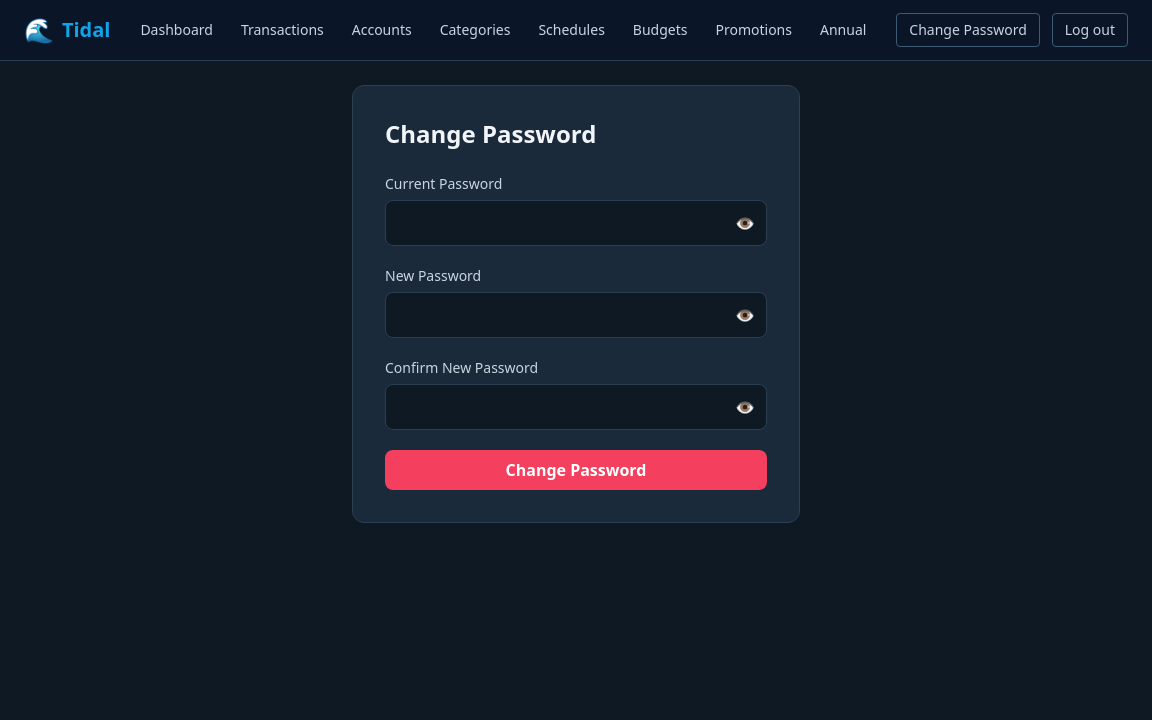
Test case: ChangePasswordPage › shows the API error when the current password is wrong
Type "wrongpass" into the password field labelled "Current Password" at (576,223), box 385,200 -> 767,246
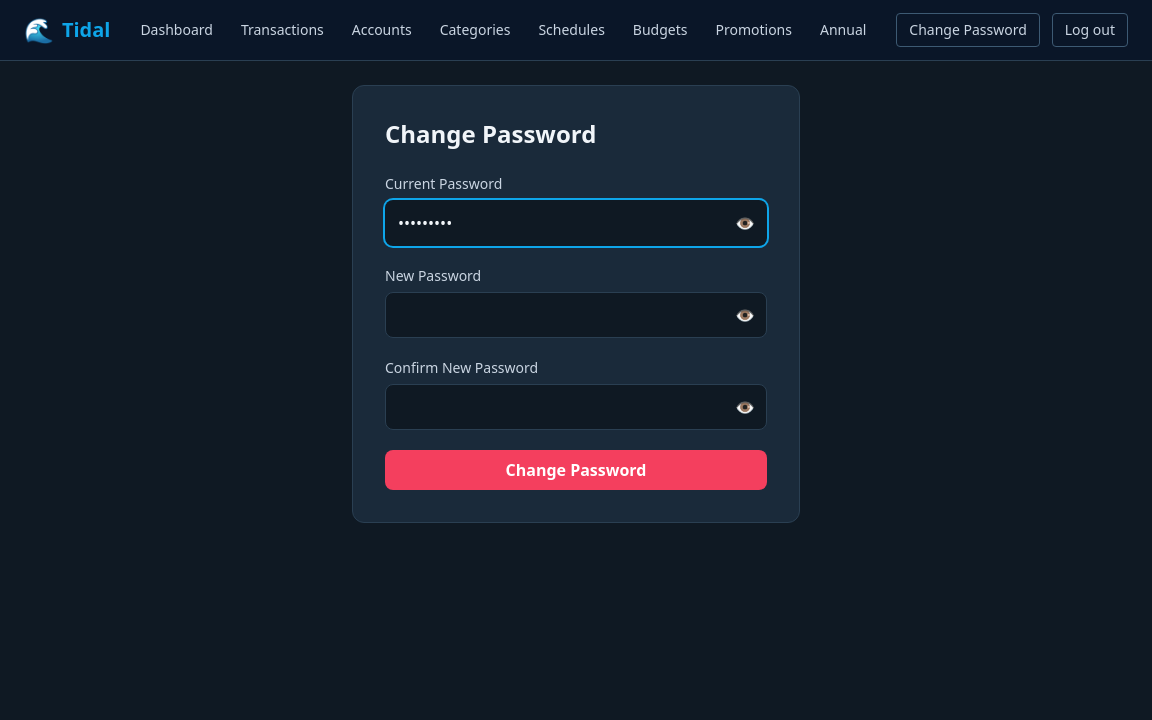
Type "newpass456" into the password field labelled "New Password" at (576,315), box 385,292 -> 767,338
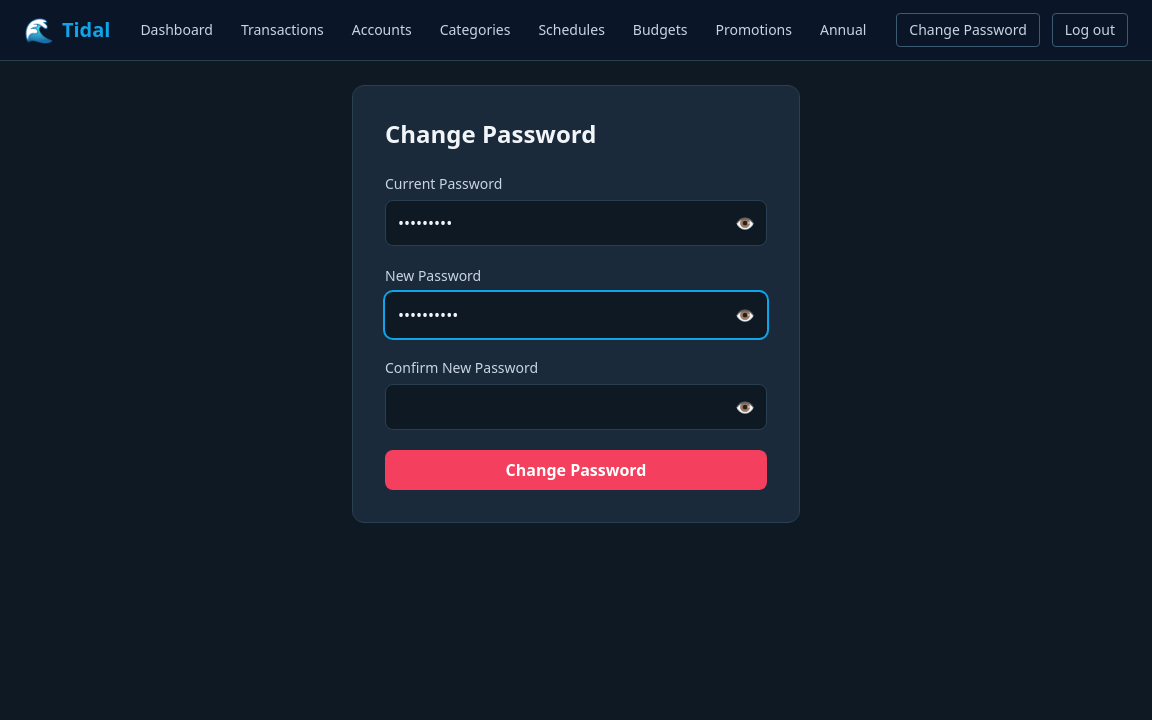
Type "newpass456" into the password field labelled "Confirm New Password" at (576,407), box 385,384 -> 767,430
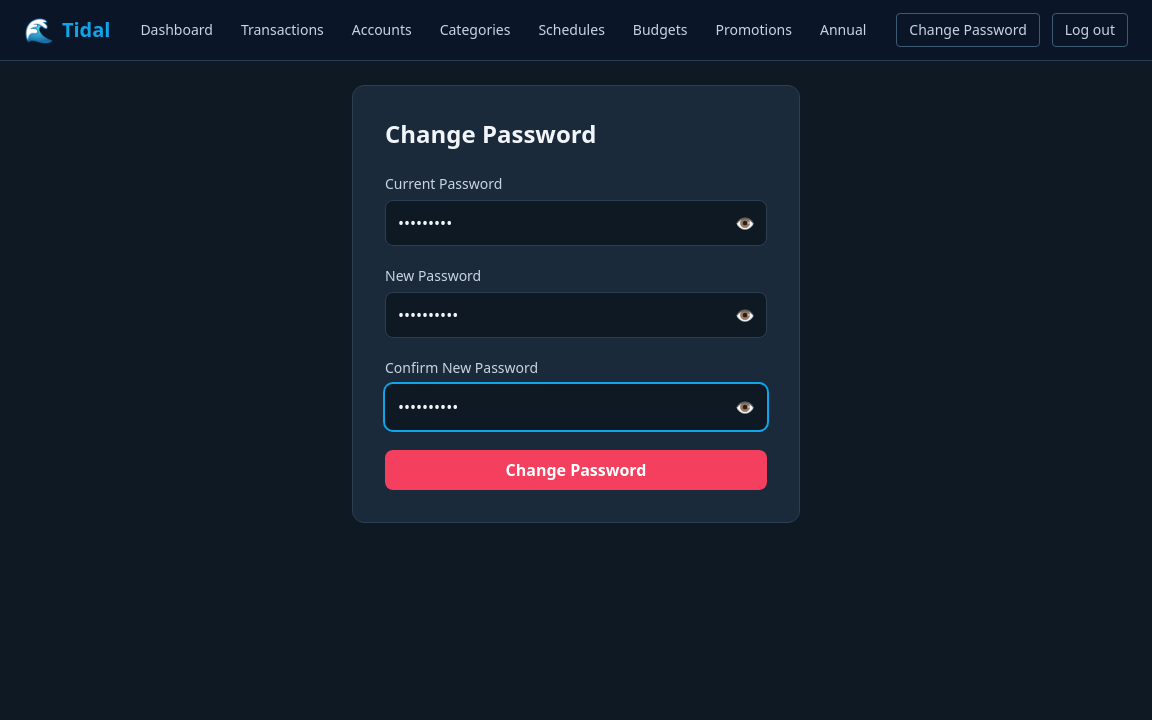
Click the button "Change Password" at (576,470), box 385,450 -> 767,490
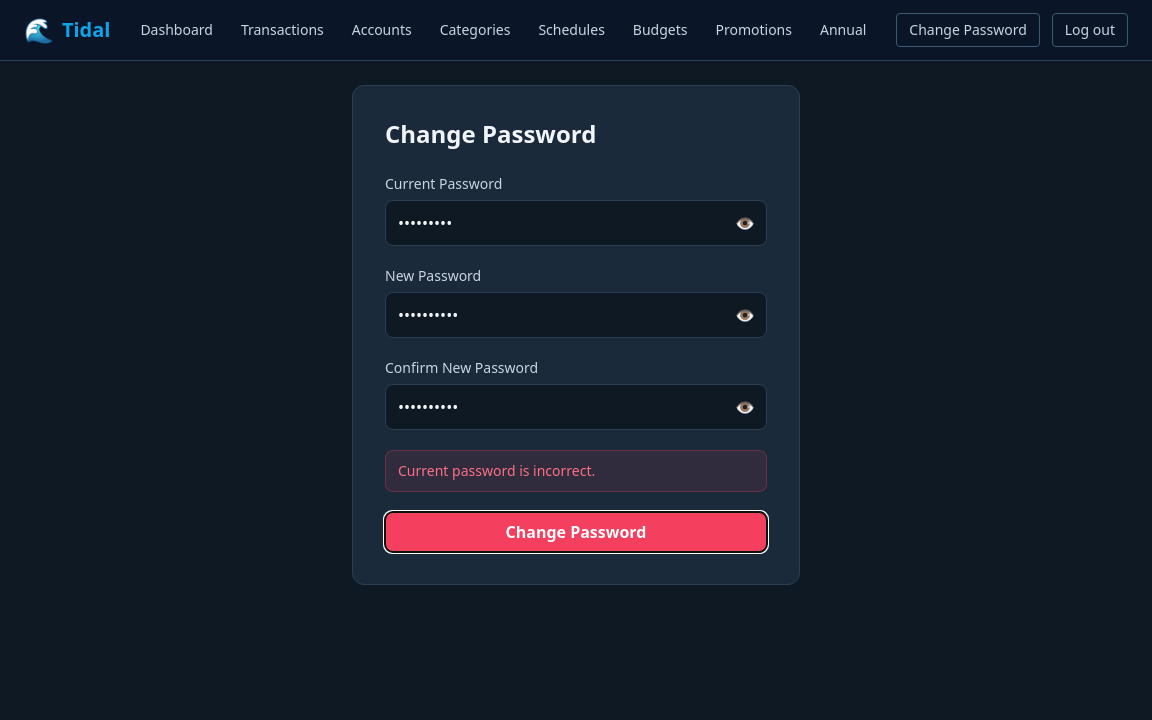
Expected: the text "Current password is incorrect." is shown, 398,461 -> 595,480
